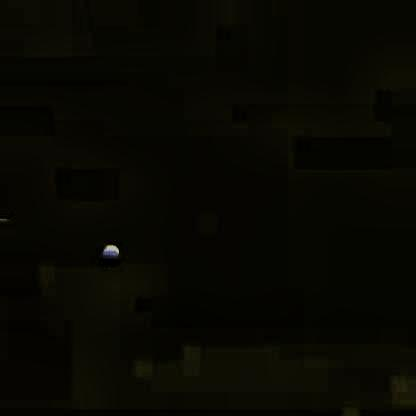golfball: (98, 240, 118, 262)
